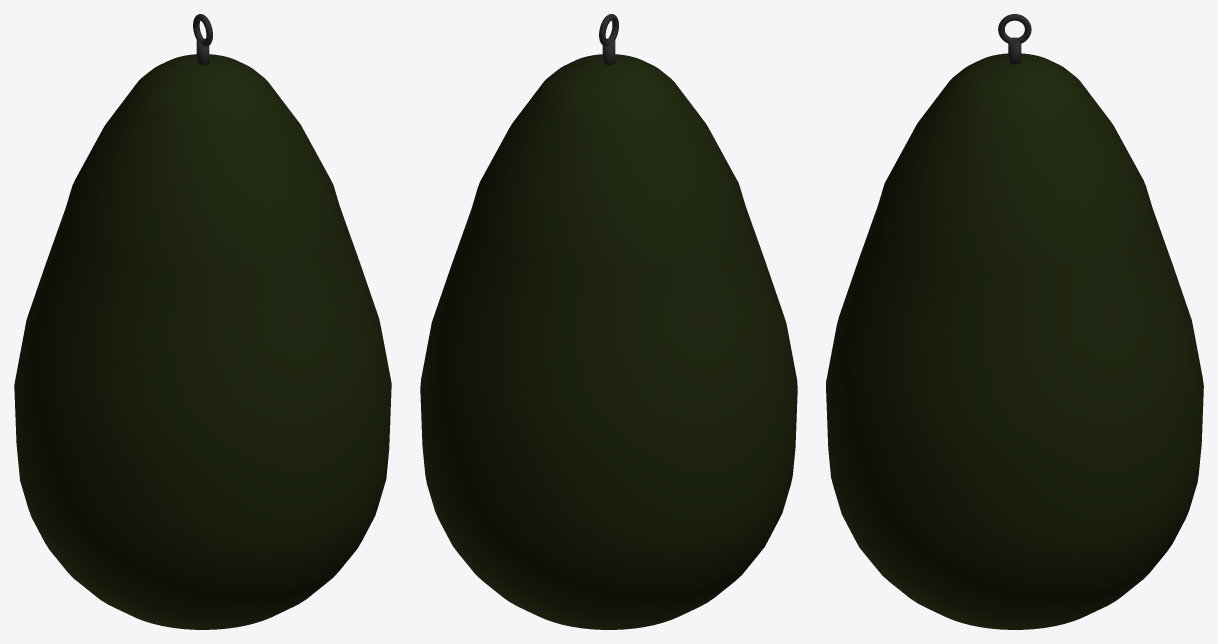
Rendered from Chumbo.fbx.
3 views of the same model, side by side, from view 1: azimuth 30°, elevation 25°; view 2: azimuth 150°, elevation 25°; view 3: azimuth 270°, elevation 25° (orthographic).
Parts seen in each view (by area): view 1: Sphere.001, Sphere; view 2: Sphere.001, Sphere; view 3: Sphere.001, Sphere.
Boxes of the visible parts, x1=… form: Sphere.001: x1=14, y1=54, x2=391, y2=629; Sphere: x1=193, y1=14, x2=212, y2=65; Sphere.001: x1=420, y1=54, x2=797, y2=629; Sphere: x1=599, y1=14, x2=618, y2=65; Sphere.001: x1=826, y1=53, x2=1203, y2=629; Sphere: x1=998, y1=14, x2=1031, y2=64.
Bounding box in the file's own units: 129 × 225 × 129.
